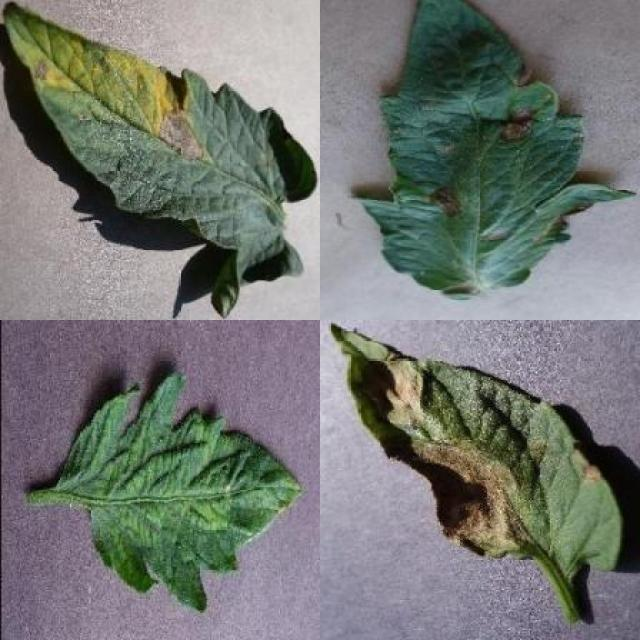Early Blight: (5, 2, 318, 318), (351, 1, 638, 302)
Late Blight: (328, 323, 625, 580)
Mosaic Virus: (55, 372, 302, 614)
